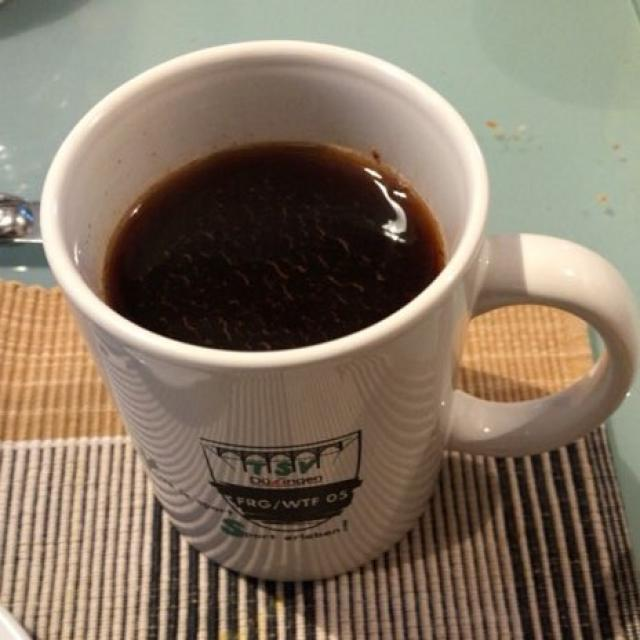tea: (105, 142, 454, 350)
